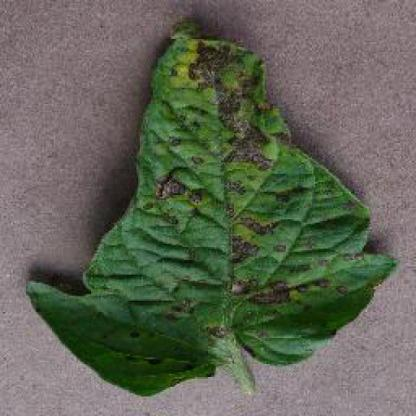Tomato_Blight: (24, 18, 396, 395)
